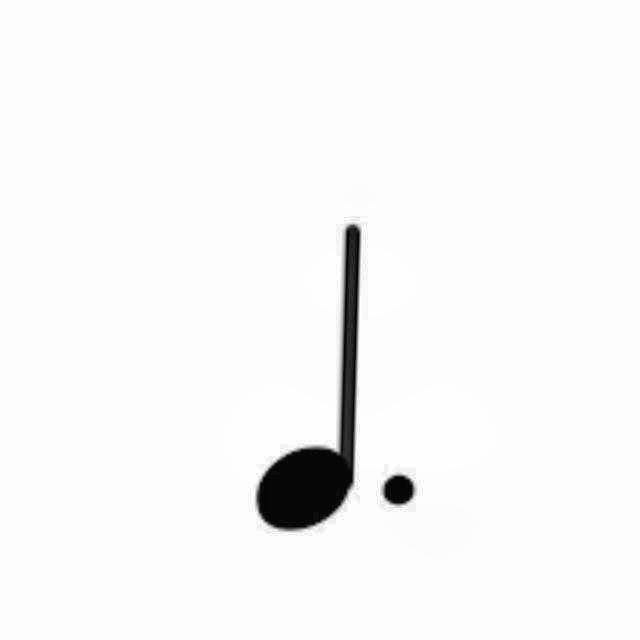Quarter-dot: (243, 212, 442, 540)
